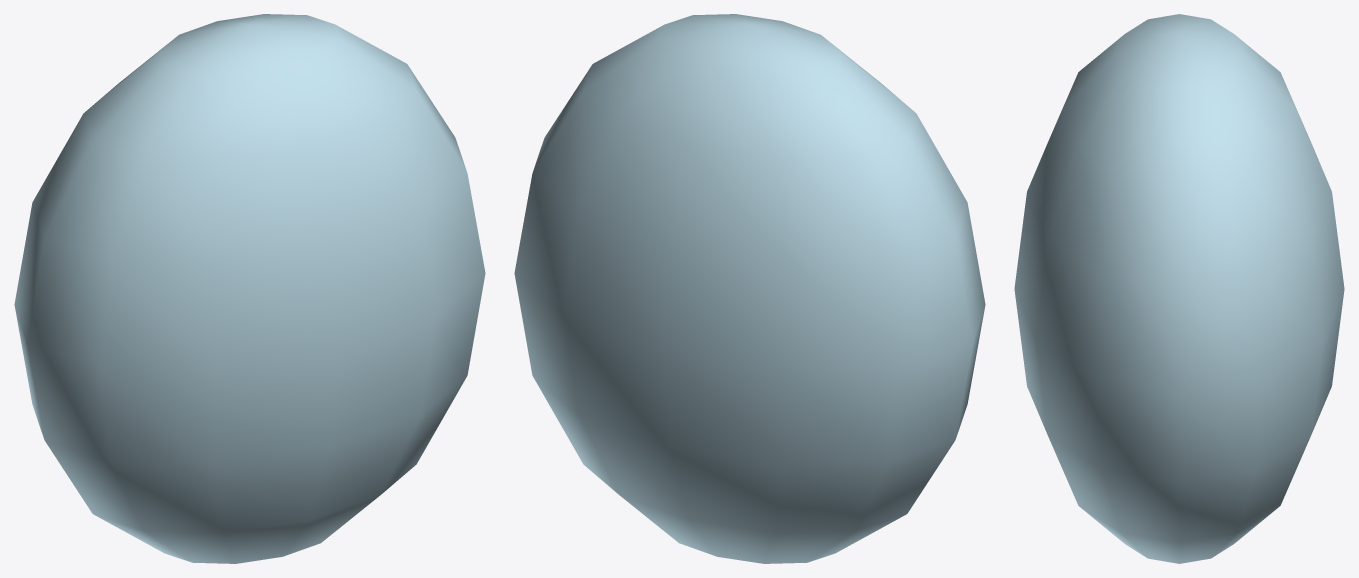
File: clothes-chibi-02.glb
3 views of the same model, side by side, from view 1: azimuth 30°, elevation 25°; view 2: azimuth 150°, elevation 25°; view 3: azimuth 270°, elevation 25° (orthographic). The views are drawn at different scales.
Parts seen in each view (by area): view 1: part_0; view 2: part_0; view 3: part_0.
Part boxes in pixels (x1,y1,x2,y2): part_0: (14, 14, 485, 563); part_0: (514, 14, 985, 563); part_0: (1014, 14, 1344, 563).
Bounding box in the file's own units: 0.9 × 1.02 × 0.6.
